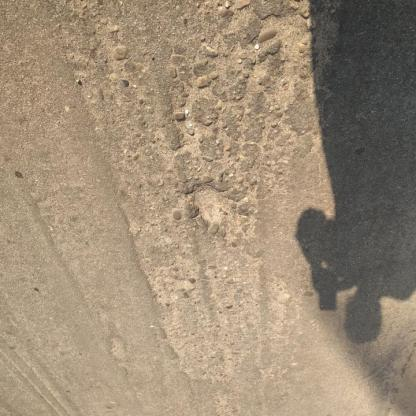pothole: (188, 182, 241, 230)
